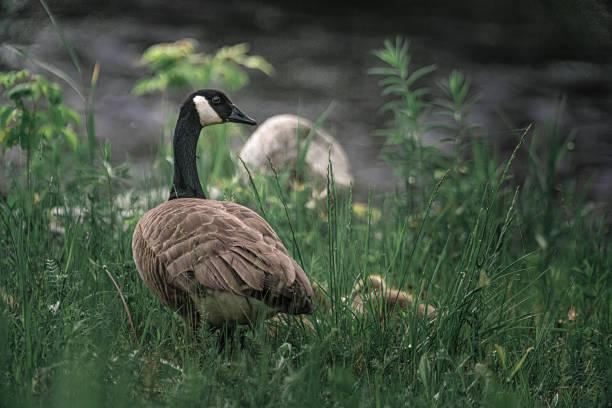Canadian-Goose: (129, 88, 312, 319)
